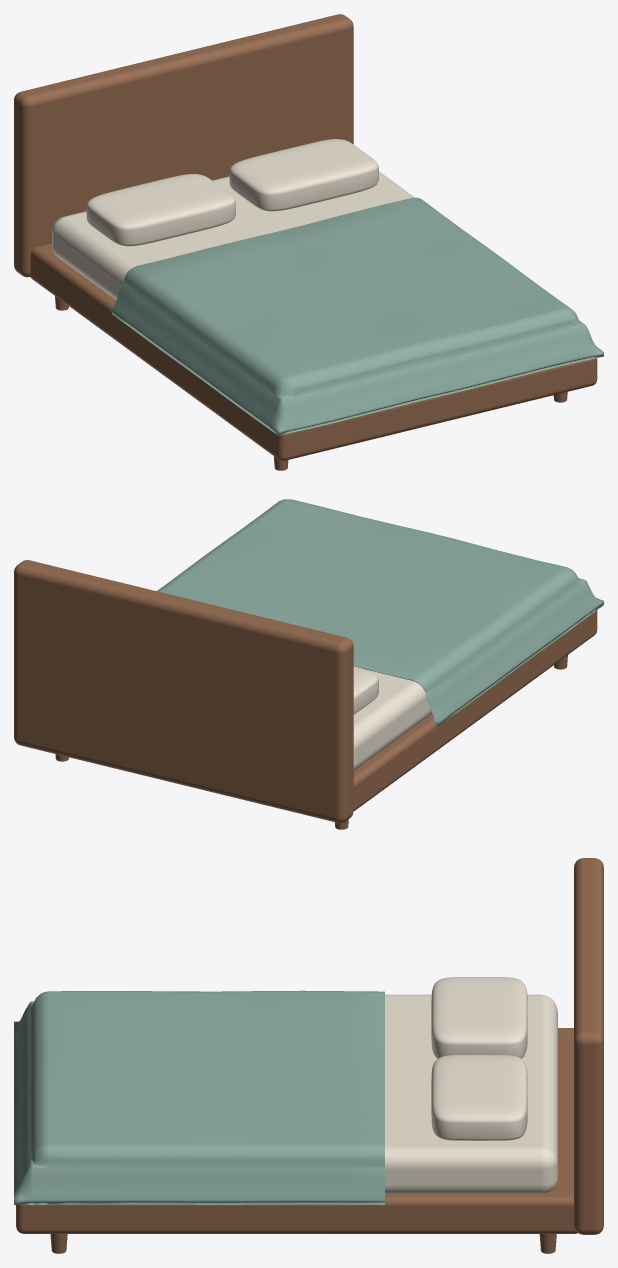
File: bed.glb
3 renders of one model, top to bottom at view 1: azimuth 30°, elevation 25°; view 2: azimuth 150°, elevation 25°; view 3: azimuth 270°, elevation 25°, orthographic. The views are drawn at different scales.
Visible parts, largest first — view 1: continuous-draped-duvet, headboard, bed-frame, mattress, pillow-1, pillow--1; view 2: headboard, continuous-draped-duvet, bed-frame, mattress, pillow--1; view 3: continuous-draped-duvet, bed-frame, mattress, headboard, pillow-1, pillow--1.
Part boxes in pixels (left/top/right/bottom): continuous-draped-duvet: left=112, top=197, right=603, bottom=435; headboard: left=14, top=14, right=353, bottom=277; bed-frame: left=30, top=243, right=597, bottom=460; mattress: left=52, top=171, right=414, bottom=299; pillow-1: left=229, top=139, right=378, bottom=211; pillow--1: left=86, top=174, right=235, bottom=246; headboard: left=14, top=560, right=353, bottom=823; continuous-draped-duvet: left=157, top=499, right=603, bottom=725; bed-frame: left=353, top=610, right=597, bottom=811; mattress: left=353, top=670, right=431, bottom=770; pillow--1: left=353, top=666, right=378, bottom=714; continuous-draped-duvet: left=14, top=990, right=384, bottom=1204; bed-frame: left=16, top=1028, right=577, bottom=1233; mattress: left=385, top=994, right=557, bottom=1193; headboard: left=574, top=858, right=603, bottom=1234; pillow-1: left=431, top=1055, right=527, bottom=1140; pillow--1: left=431, top=977, right=527, bottom=1058.
Size of the model in its own units: 2 by 1.18 by 2.75.
